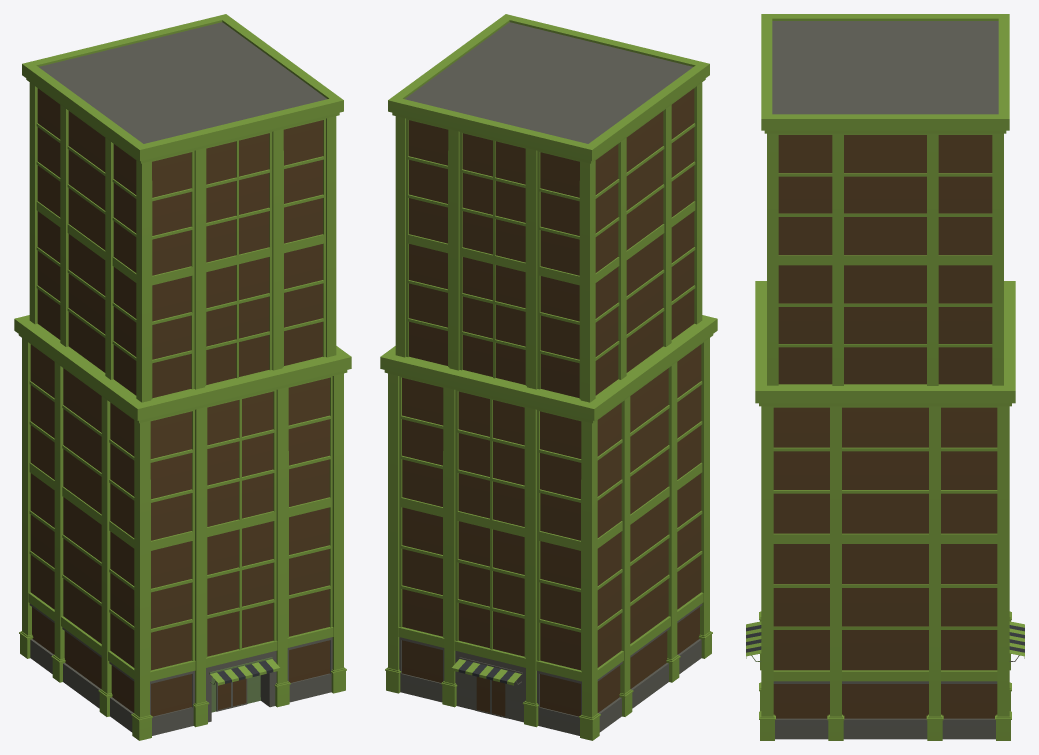
Rendered from House_39.fbx.
3 renders of one model, left to right at view 1: azimuth 30°, elevation 25°; view 2: azimuth 150°, elevation 25°; view 3: azimuth 270°, elevation 25°, orthographic. The views are drawn at different scales.
Visible parts, largest first — view 1: House_39; view 2: House_39; view 3: House_39.
Boxes of the visible parts, <box> form: House_39: <box>14,14,351,740</box>; House_39: <box>380,14,717,740</box>; House_39: <box>746,14,1024,740</box>.
Size of the model in its own units: 12.06 by 31.77 by 12.93.
